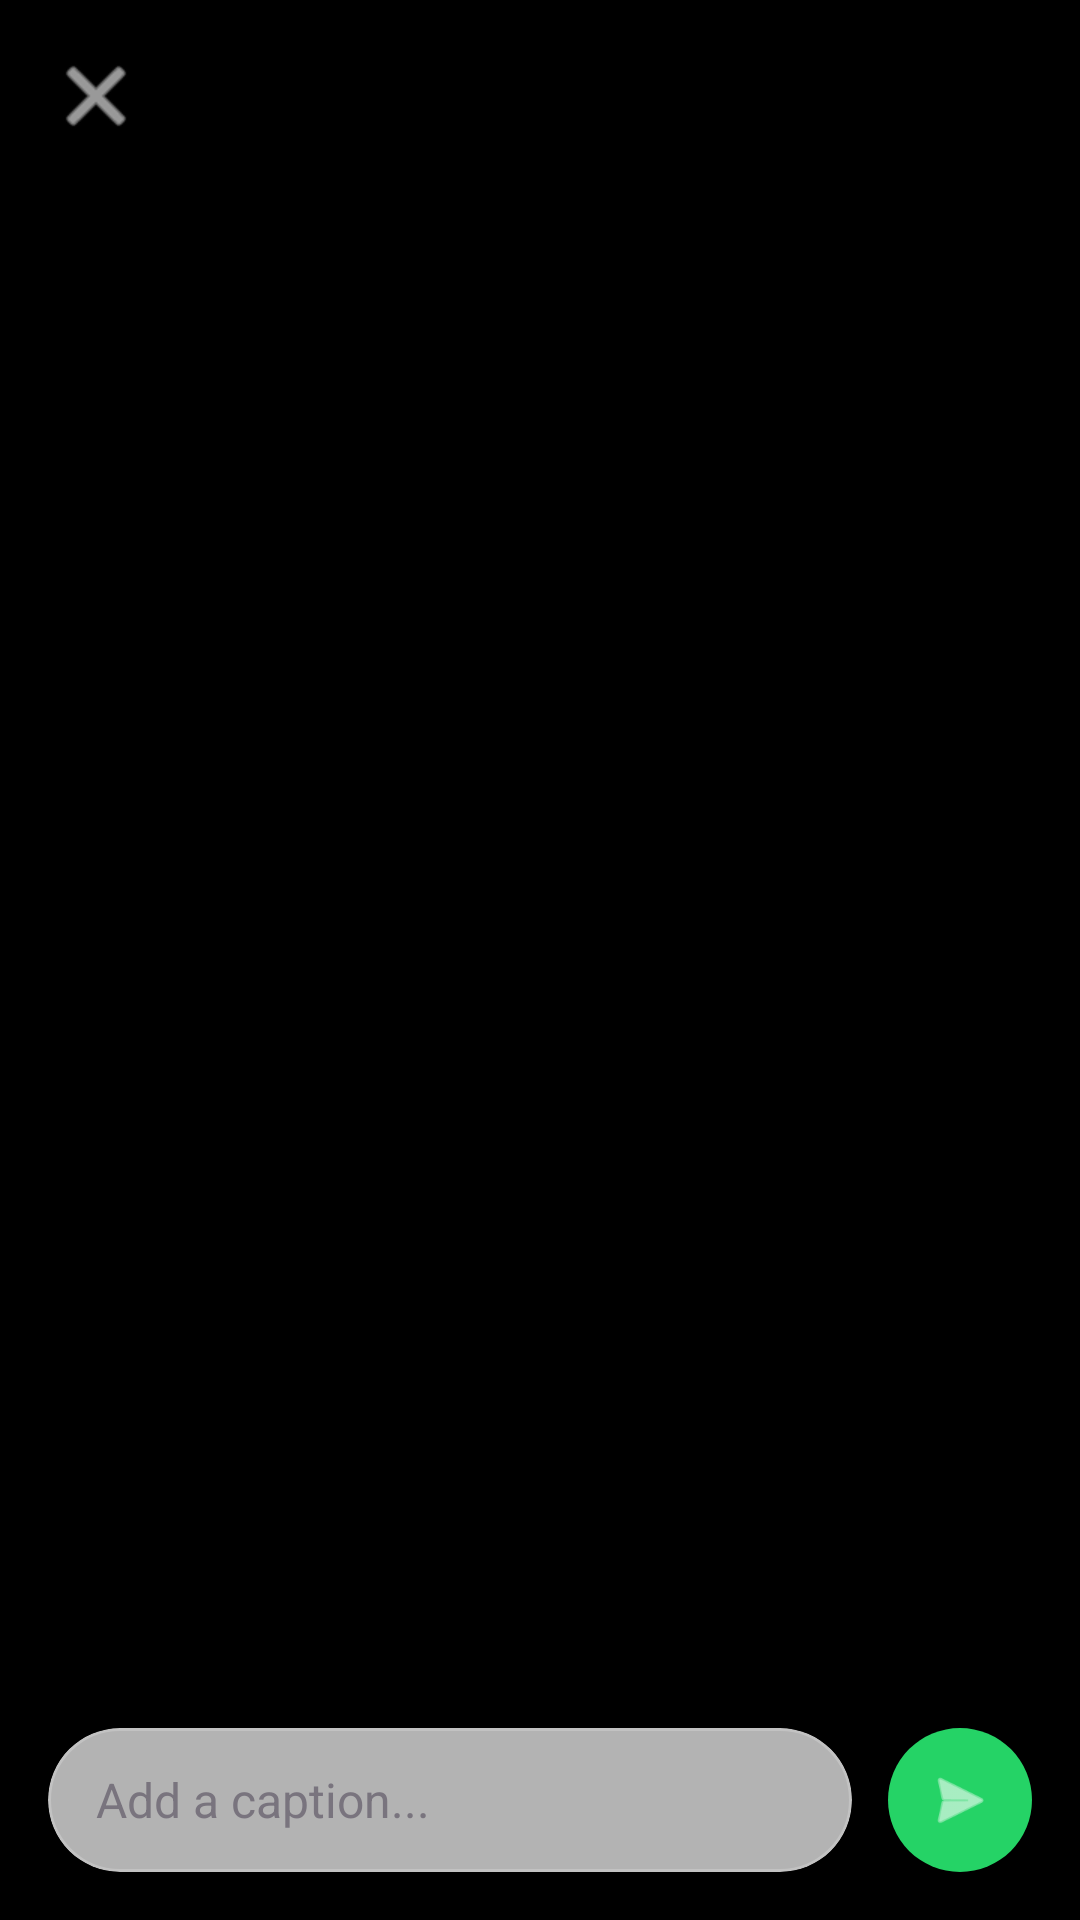

Icons on this 1080*1920 Android screen, each with the point to tap as (x=x, y=y):
Post Status: (x=960, y=1800)
